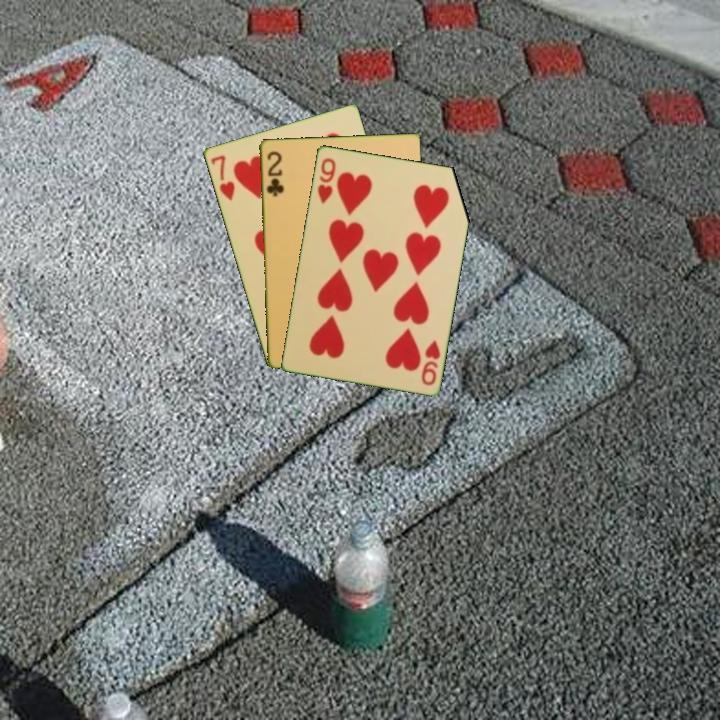2c: (262, 147, 286, 199)
7h: (207, 151, 237, 203)
9h: (313, 154, 338, 206), (418, 337, 443, 388)
